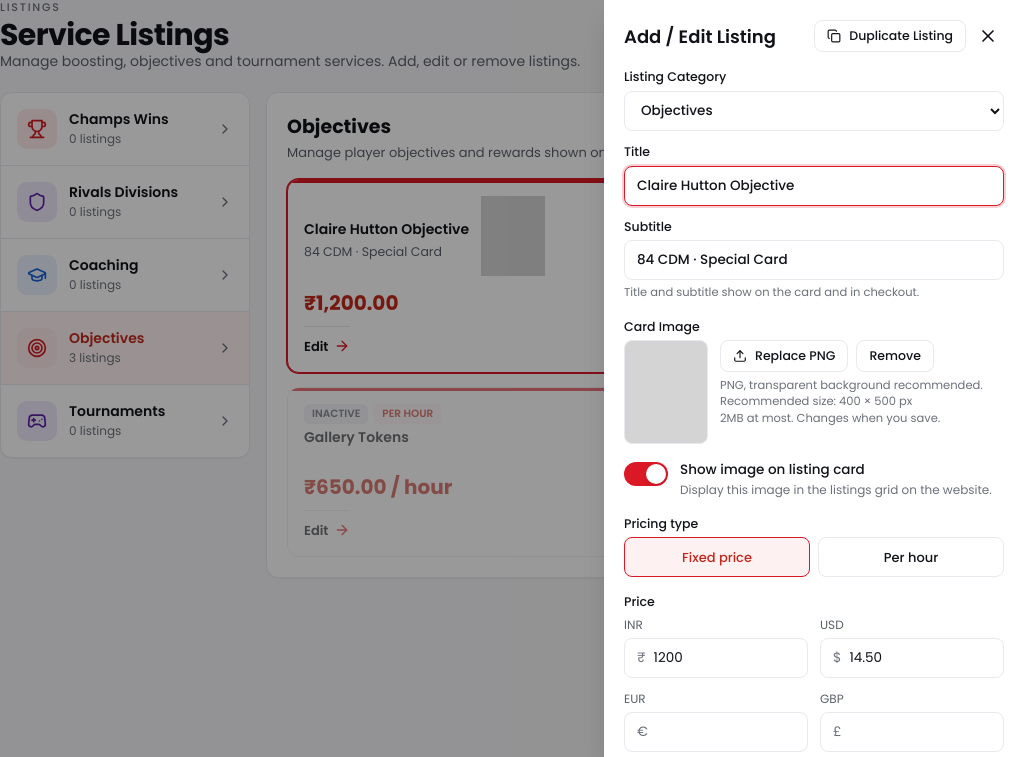
it: Add / Edit Listing › duplicates as an inactive draft
Click the button "Duplicate Listing".
click(890, 36)  # box [814,20,966,52]
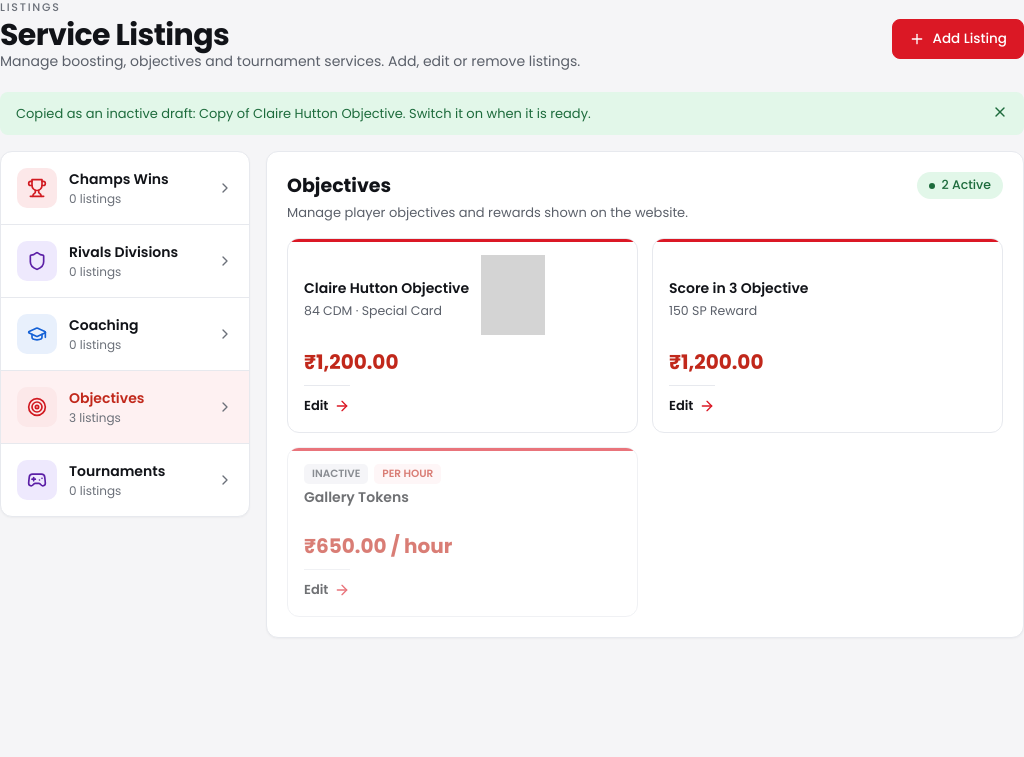
Now the message shows "Copied as an inactive draft: Copy of Claire Hutton Objective", box [16,104,591,123]
